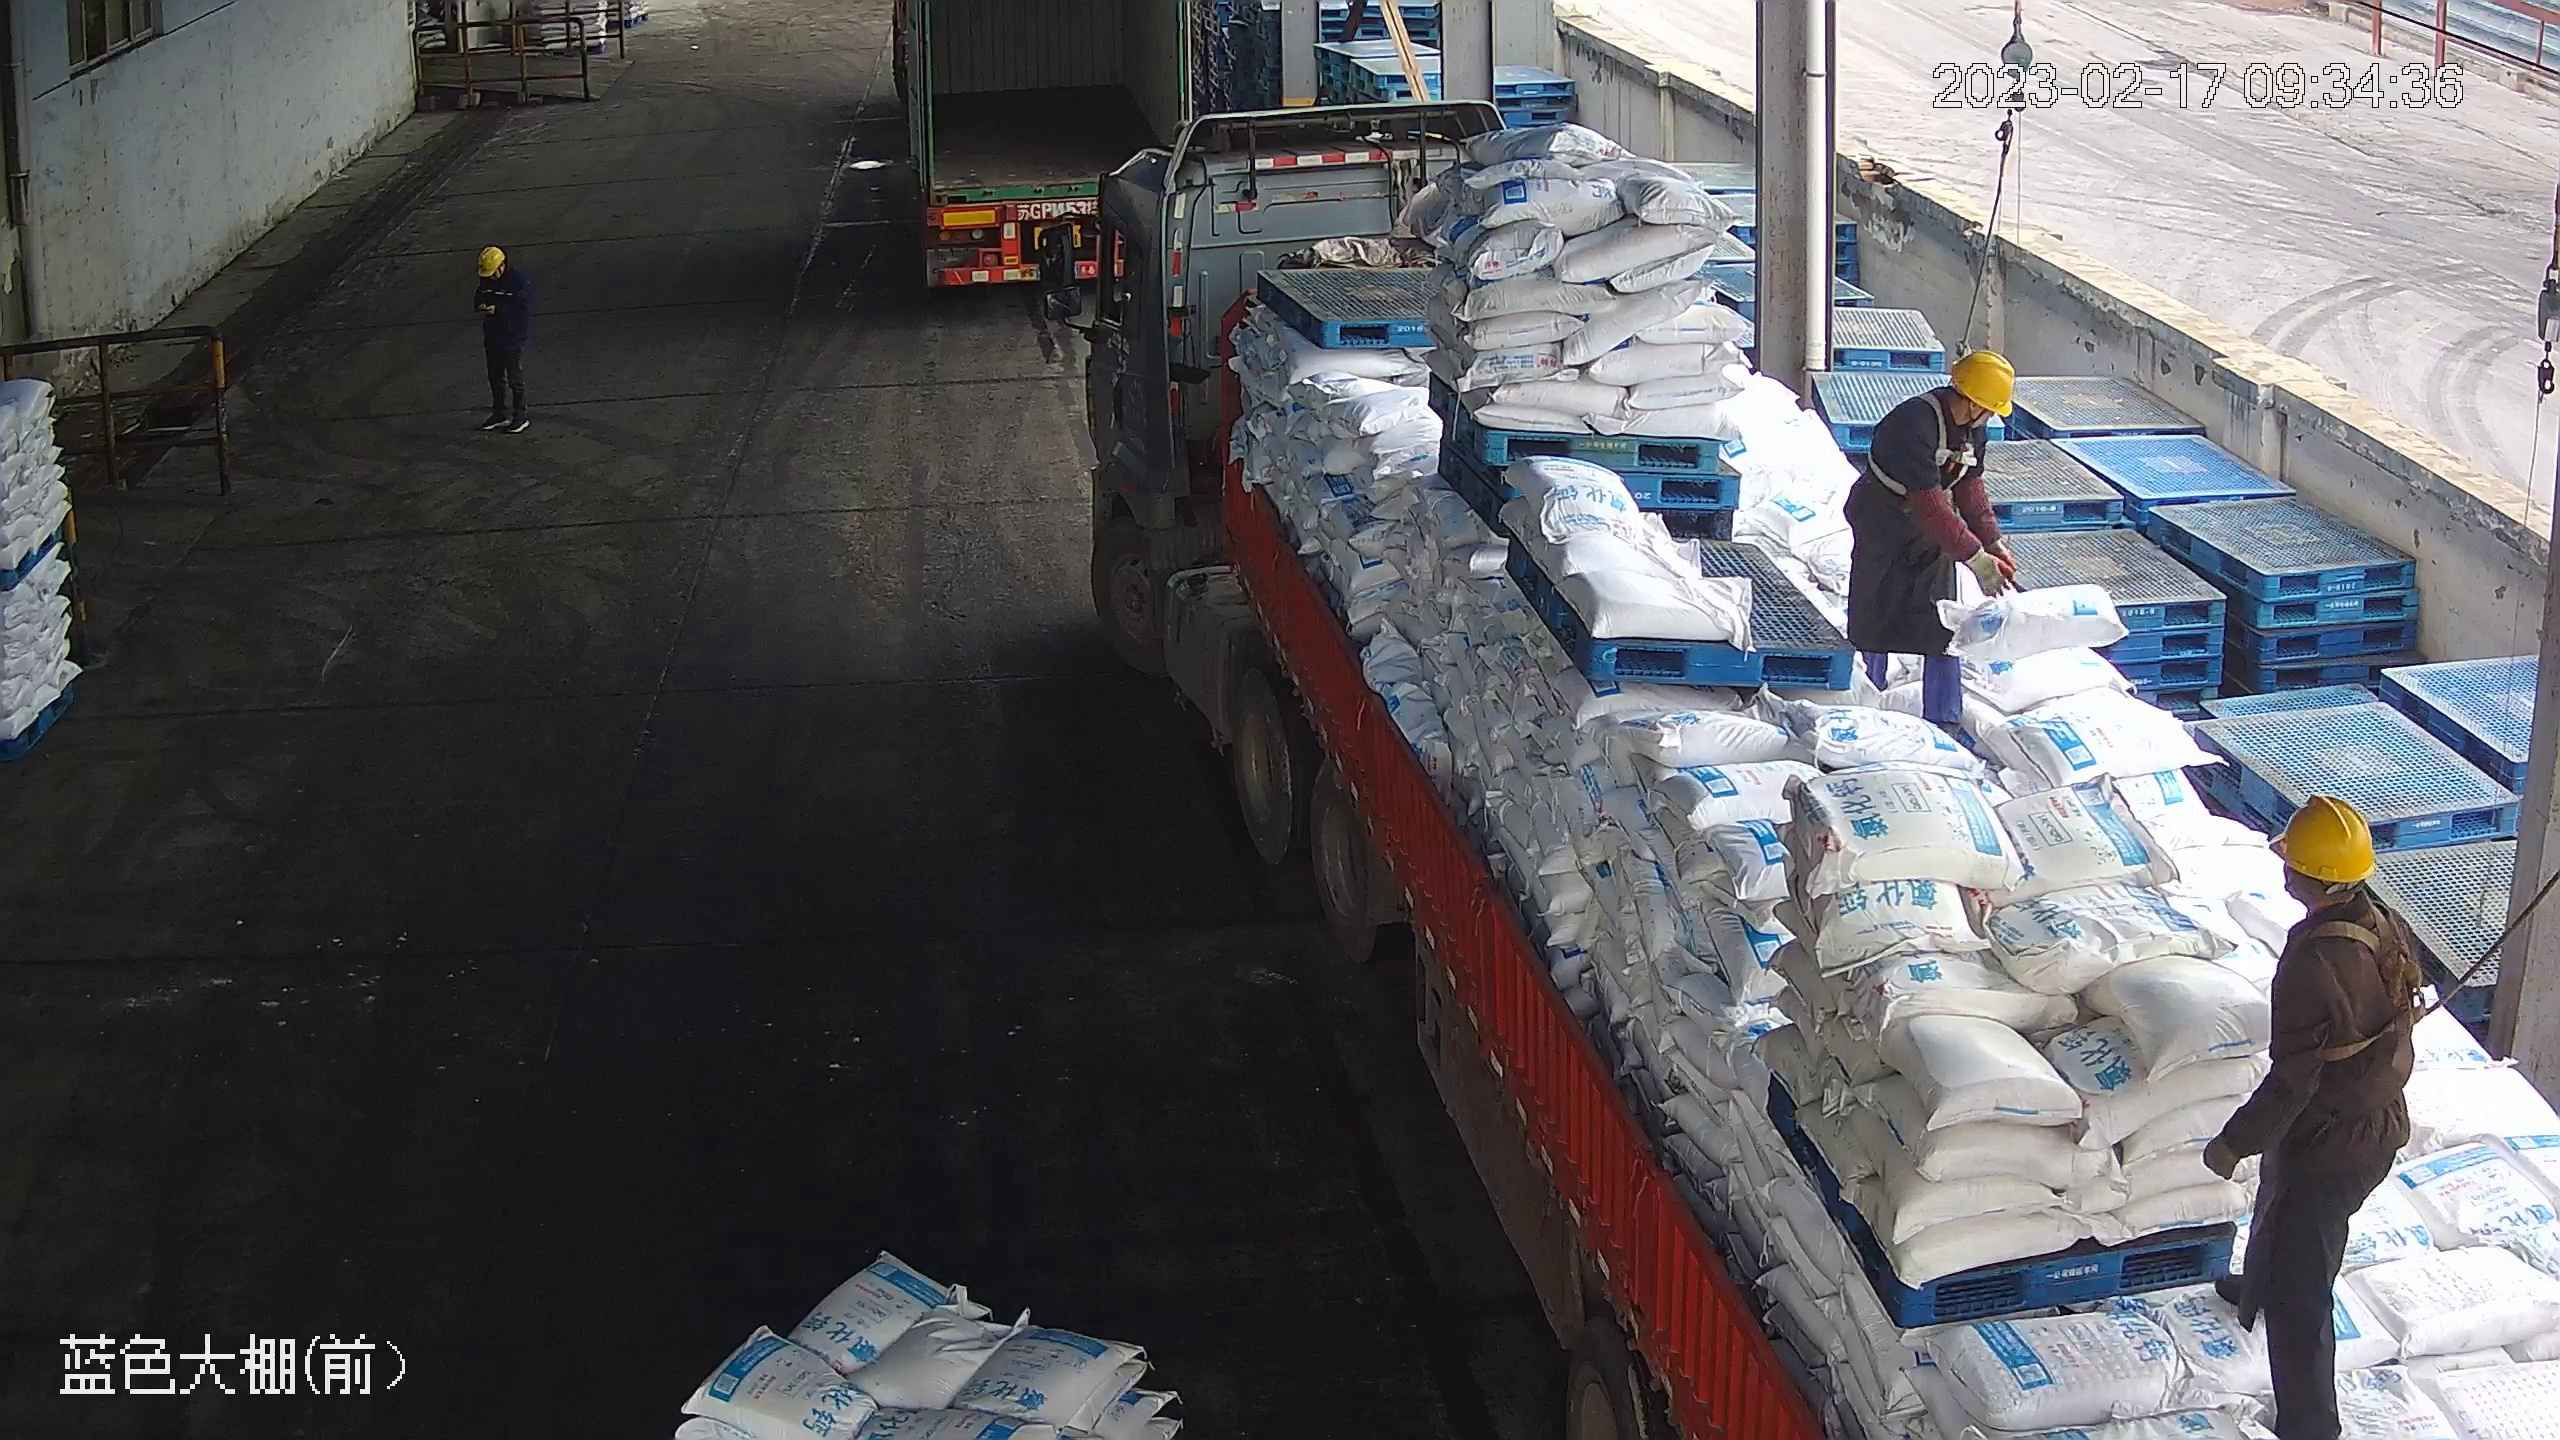belt: (2302, 903, 2444, 1062), (1867, 390, 1986, 493)
head: (2256, 791, 2415, 994), (1883, 347, 2017, 462), (472, 246, 526, 297)
helmet: (2267, 793, 2381, 882), (1945, 347, 2017, 417), (474, 246, 504, 273)
people: (2200, 794, 2428, 1438), (1839, 345, 2022, 743), (471, 245, 534, 435)
truck: (1043, 108, 2550, 1437), (883, 1, 1197, 294)
